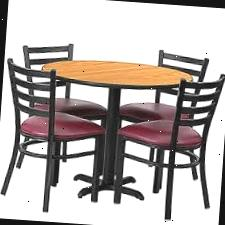Clean Table: (27, 48, 195, 99)
